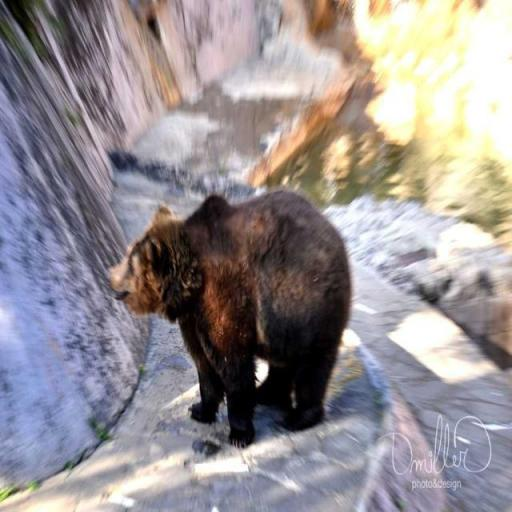Bear: (108, 187, 352, 449)
